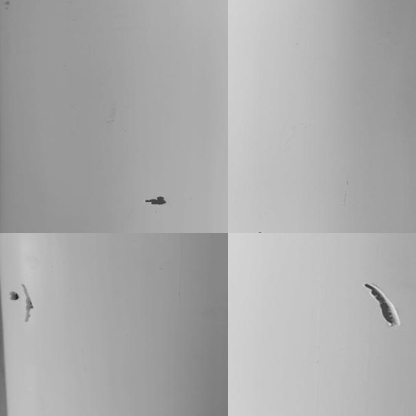kongdong: (364, 280, 400, 328), (11, 279, 34, 324), (146, 191, 167, 207)
